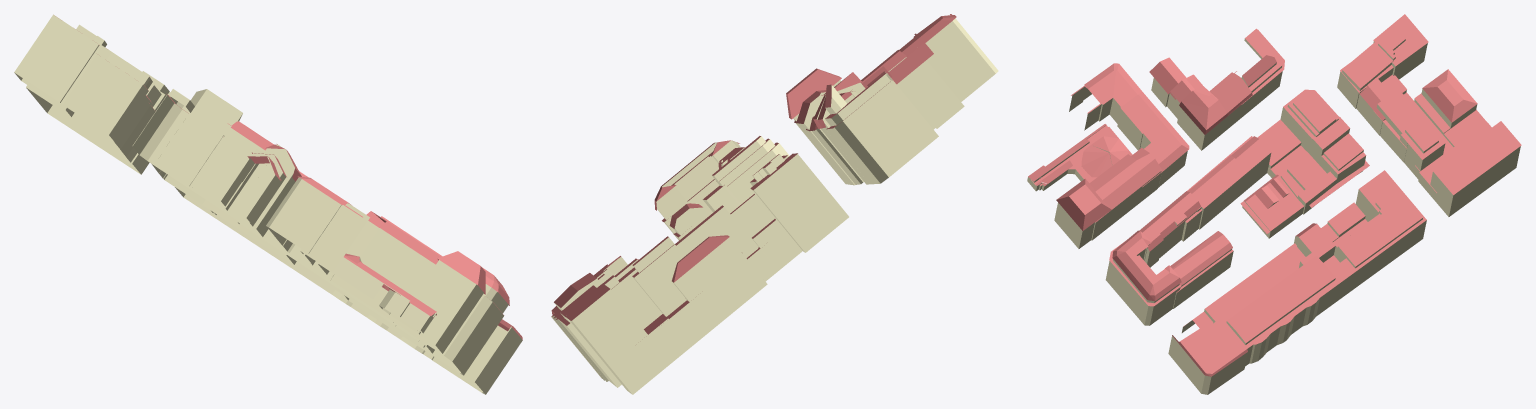
The model's file is tile_015.glb.
3 views of the same model, side by side, from view 1: azimuth 30°, elevation 25°; view 2: azimuth 150°, elevation 25°; view 3: azimuth 270°, elevation 25° (orthographic). The views are drawn at different scales.
Parts seen in each view (by area): view 1: Batched_Building_ID_95980A41-568A-4273-BCFC-0DF260812CCE, Batched_Building_ID_3C385B3B-BE56-49A1-A6A7-C6C938E37218; view 2: Batched_Building_ID_95980A41-568A-4273-BCFC-0DF260812CCE, Batched_Building_ID_3C385B3B-BE56-49A1-A6A7-C6C938E37218; view 3: Batched_Building_ID_3C385B3B-BE56-49A1-A6A7-C6C938E37218, Batched_Building_ID_95980A41-568A-4273-BCFC-0DF260812CCE.
Boxes of the visible parts, left/top/right/bottom form: Batched_Building_ID_95980A41-568A-4273-BCFC-0DF260812CCE: left=14, top=14, right=522, bottom=394; Batched_Building_ID_3C385B3B-BE56-49A1-A6A7-C6C938E37218: left=99, top=45, right=522, bottom=339; Batched_Building_ID_95980A41-568A-4273-BCFC-0DF260812CCE: left=551, top=18, right=998, bottom=394; Batched_Building_ID_3C385B3B-BE56-49A1-A6A7-C6C938E37218: left=551, top=14, right=956, bottom=334; Batched_Building_ID_3C385B3B-BE56-49A1-A6A7-C6C938E37218: left=1028, top=14, right=1521, bottom=376; Batched_Building_ID_95980A41-568A-4273-BCFC-0DF260812CCE: left=1027, top=38, right=1520, bottom=394.
Size of the model in its own units: 150 by 134 by 223.
